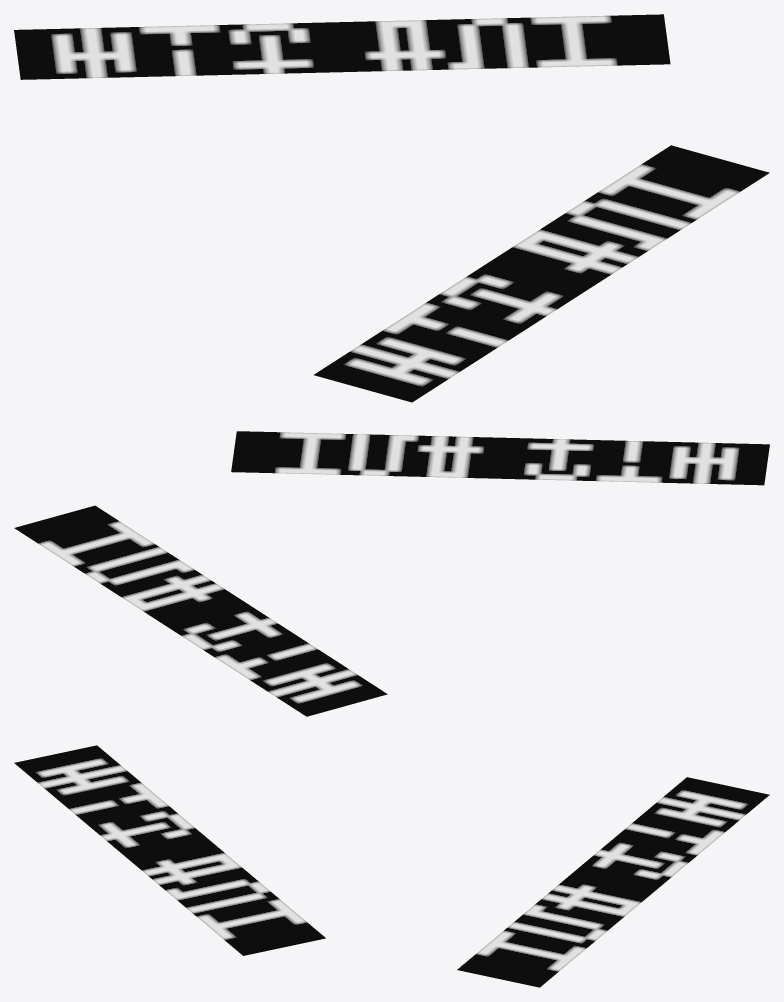
File: SM_TotemGlyphs_01.glb
3 renders of one model, top to bottom at view 1: azimuth 30°, elevation 25°; view 2: azimuth 150°, elevation 25°; view 3: azimuth 270°, elevation 25°, orthographic. The views are drawn at different scales.
Parts seen in each view (by area): view 1: SM_TotemGlyphs_01.001; view 2: SM_TotemGlyphs_01.001; view 3: SM_TotemGlyphs_01.001.
Boxes of the visible parts, x1=… form: SM_TotemGlyphs_01.001: x1=14, y1=14, x2=769, y2=402; SM_TotemGlyphs_01.001: x1=14, y1=431, x2=769, y2=716; SM_TotemGlyphs_01.001: x1=14, y1=745, x2=769, y2=987.
Size of the model in its own units: 617 by 0.000114 by 813.
1 material, 1 textured.
